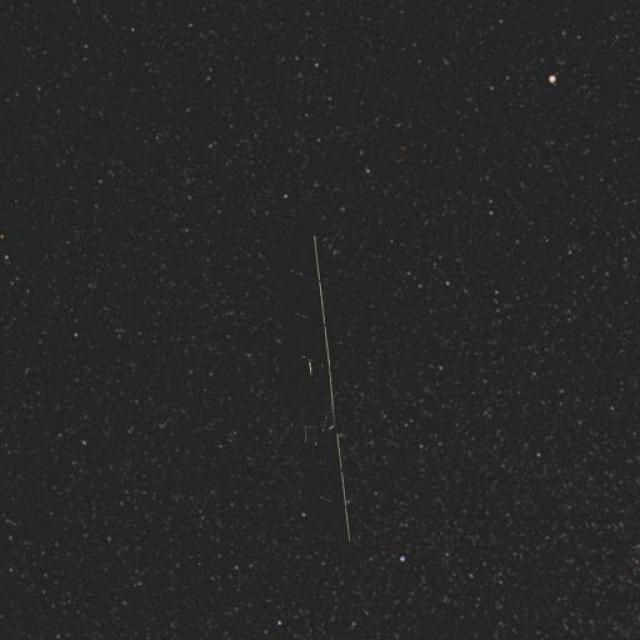smart_1: (231, 225, 401, 576)
